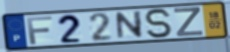2: (57, 12, 86, 46), (87, 12, 114, 43)
F: (25, 15, 54, 46)
N: (114, 10, 145, 41)
S: (143, 7, 175, 40)
Z: (173, 6, 206, 38)
